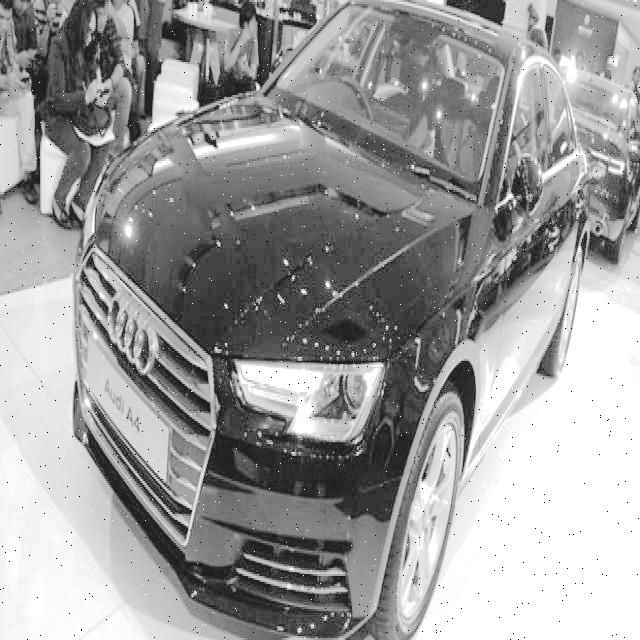Car: (75, 0, 589, 626)
